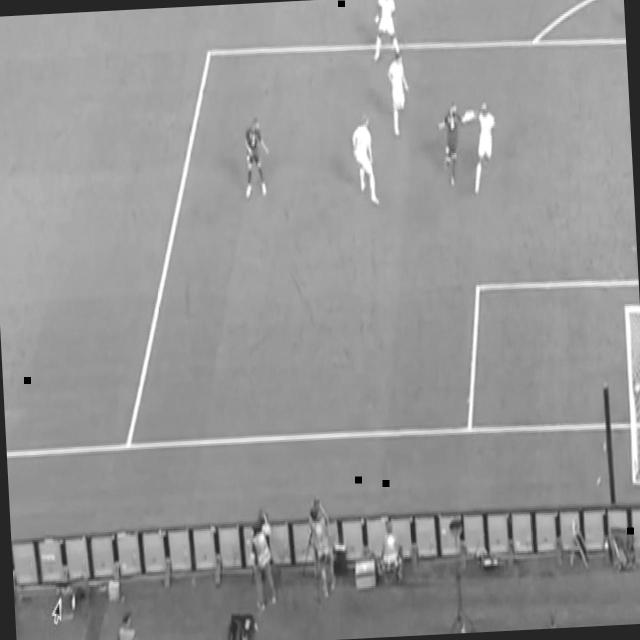ball: (460, 109, 476, 125)
player-white: (468, 99, 500, 196), (349, 113, 379, 208), (241, 116, 273, 202), (436, 100, 466, 190), (385, 50, 413, 138), (371, 0, 403, 62)
